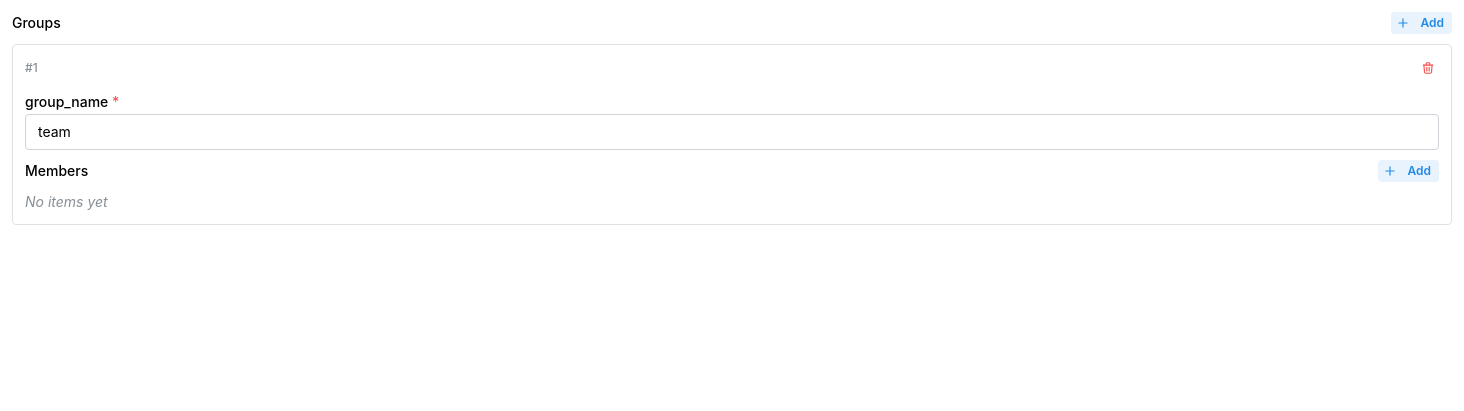
ArrayFieldRenderer — nested array of objects (recursive) › can add items to nested array
The width and height of the screenshot is (1464, 411).
Note: The second Add button should be for the inner members array
Click the button "Add" in the row of "Members". click: click(1408, 171)
box: [1378, 160, 1439, 182]
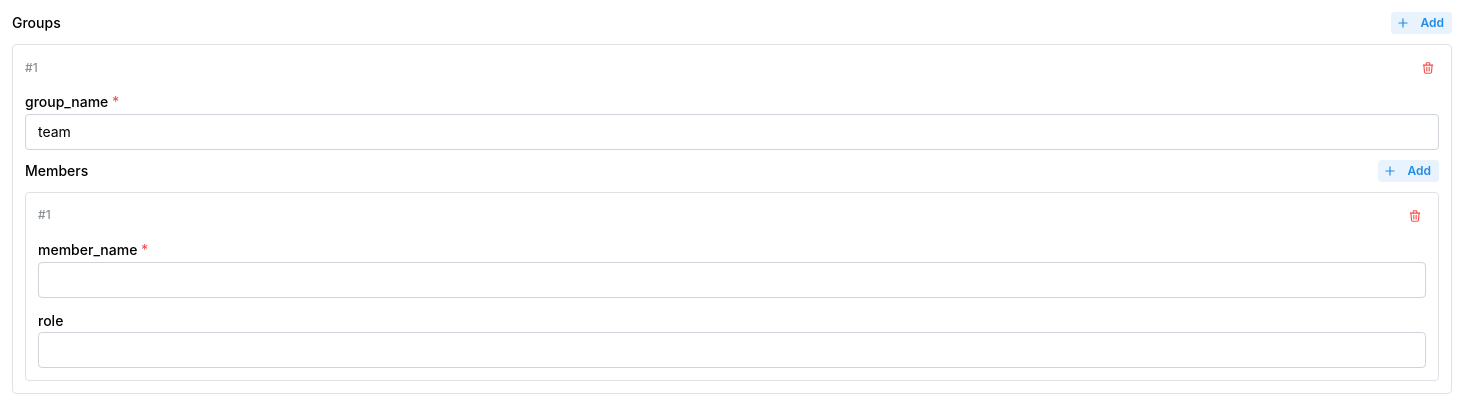
Now the text "member_name" is shown, box [38, 241, 137, 258]
Now the text "role" is shown, box [38, 310, 63, 331]
